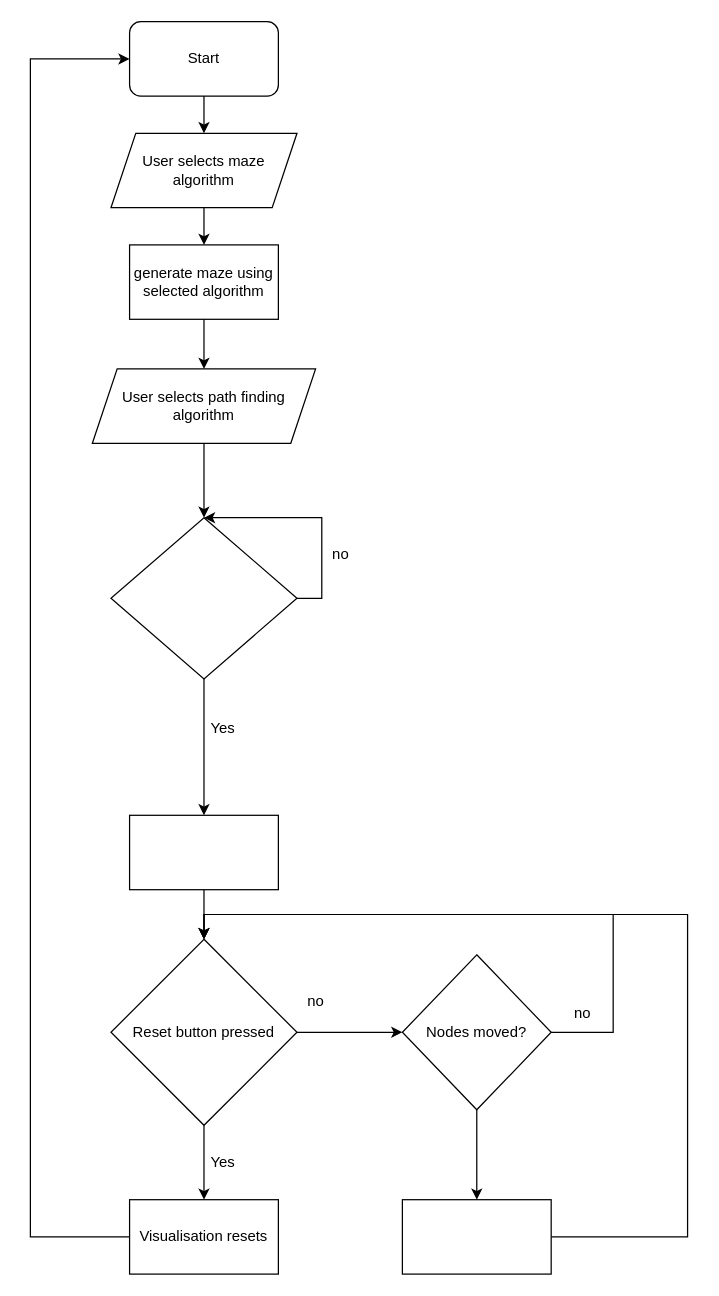
Some shapes in this 719 by 1296 pixel diagram are drawn without their labels. Each missing label, with the centre of its shape:
Start Button Pressed?: pixel 203 597
Update visualisation: pixel 476 1236
Visualisation runs: pixel 203 852
